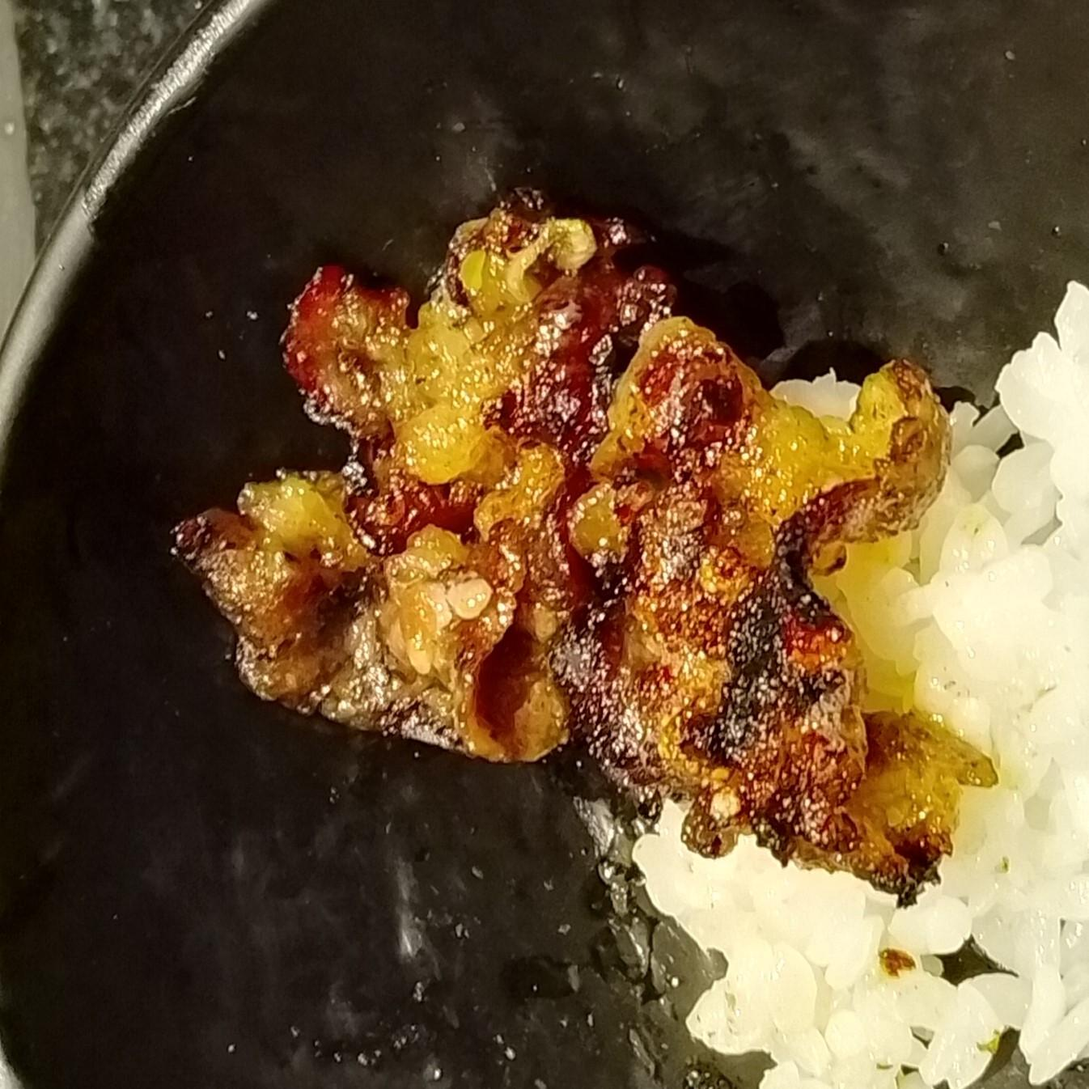Overcooked: (169, 189, 998, 902)
